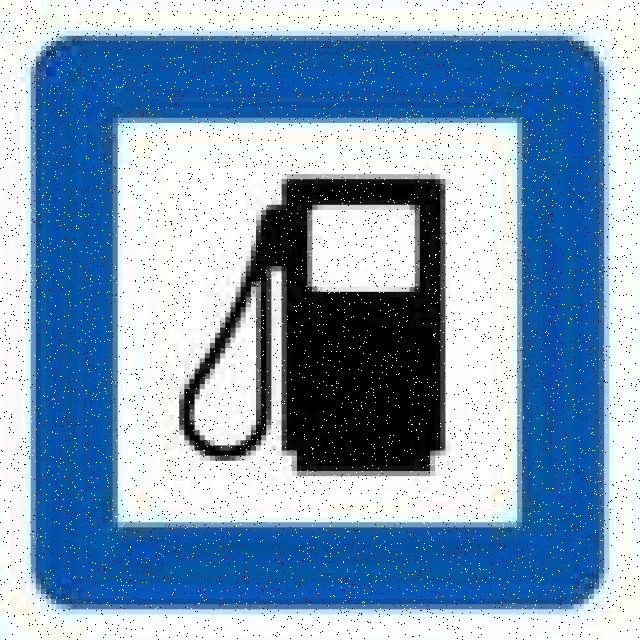petrol_station: (33, 41, 599, 614)
